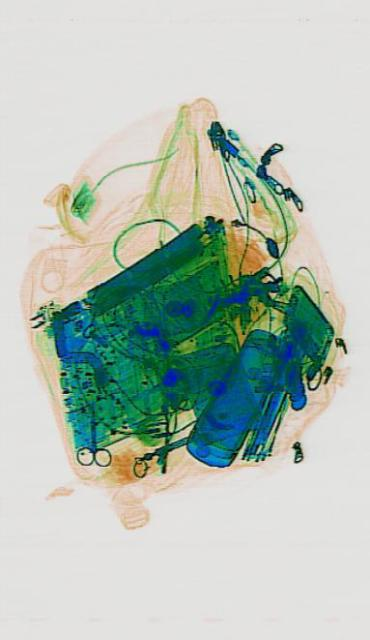Scissors: (72, 397, 109, 467)
